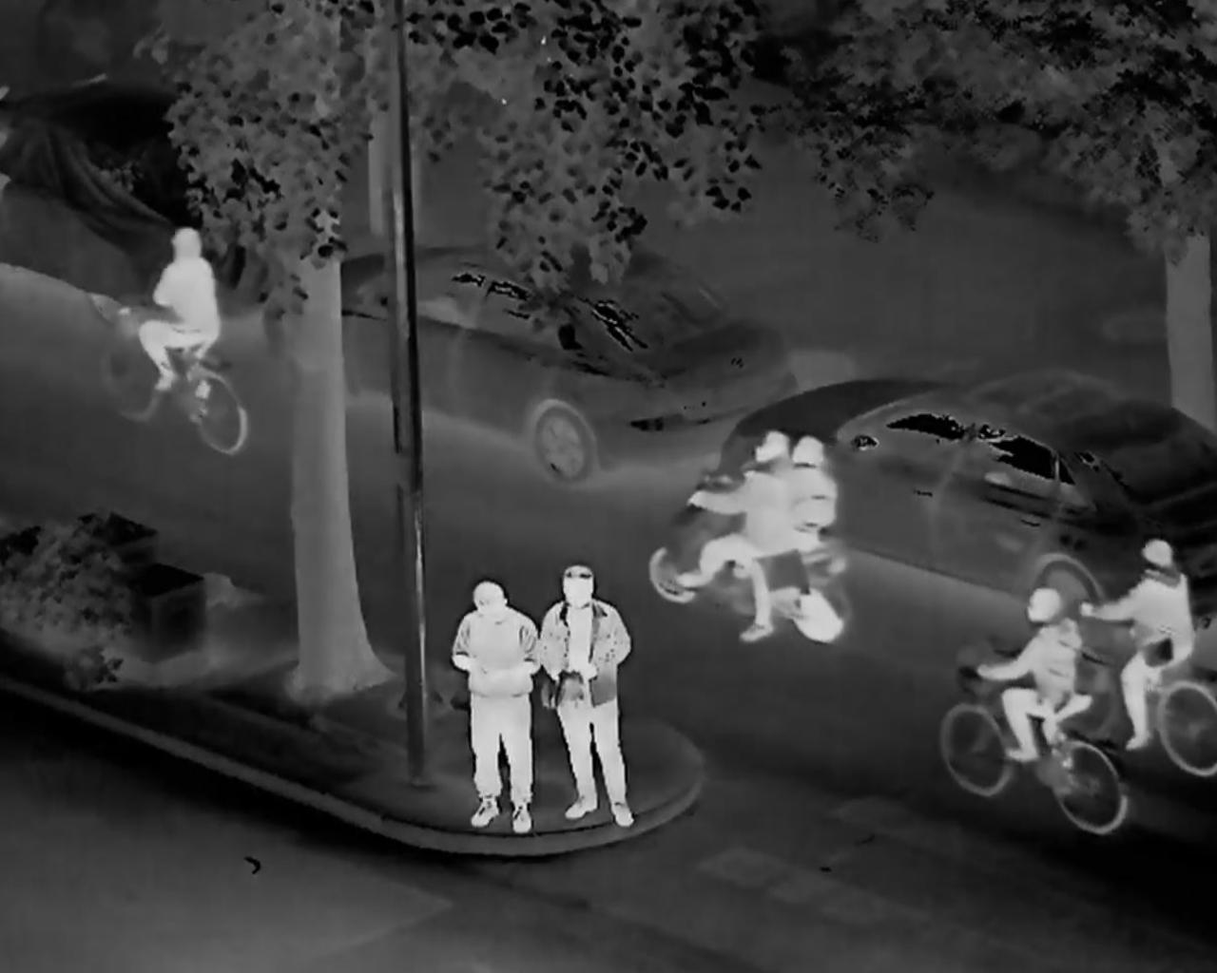person: (526, 555, 646, 830), (674, 411, 799, 643), (966, 580, 1103, 784), (1070, 527, 1198, 745), (446, 563, 545, 839), (119, 219, 231, 387), (758, 436, 838, 660)
